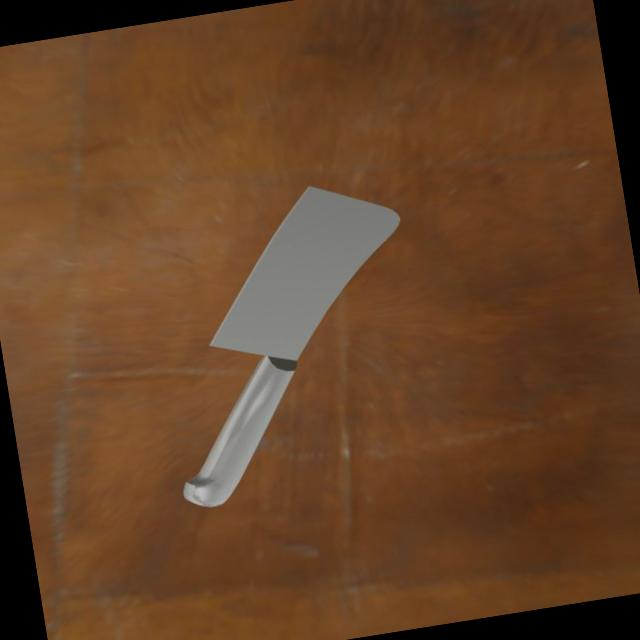knife: (157, 352, 316, 520)
